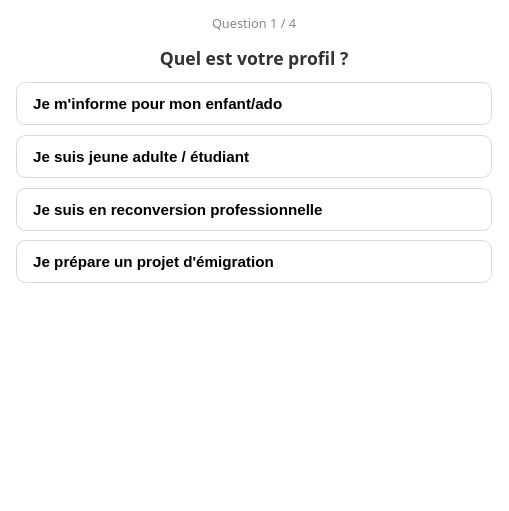
Test: OrientationWizard › adapte la question 2 selon le profil "parent" (âge, pas filière)
Click the button "Je m'informe pour mon enfant/ado" at (254, 104), box top-left (16, 82), bottom-right (492, 125)
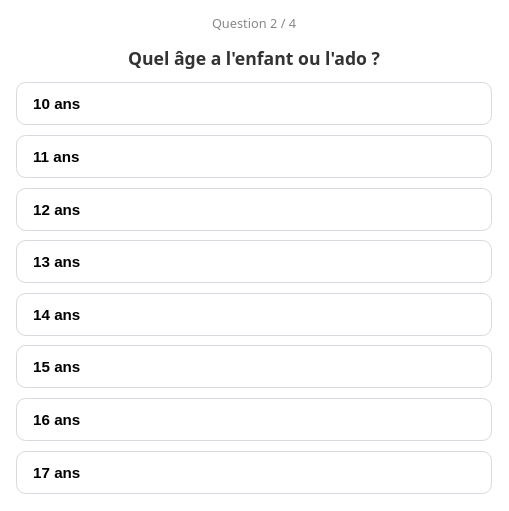
Check: the text "Quel âge a l'enfant ou l'ado ?" is shown, box top-left (128, 46), bottom-right (380, 70)
